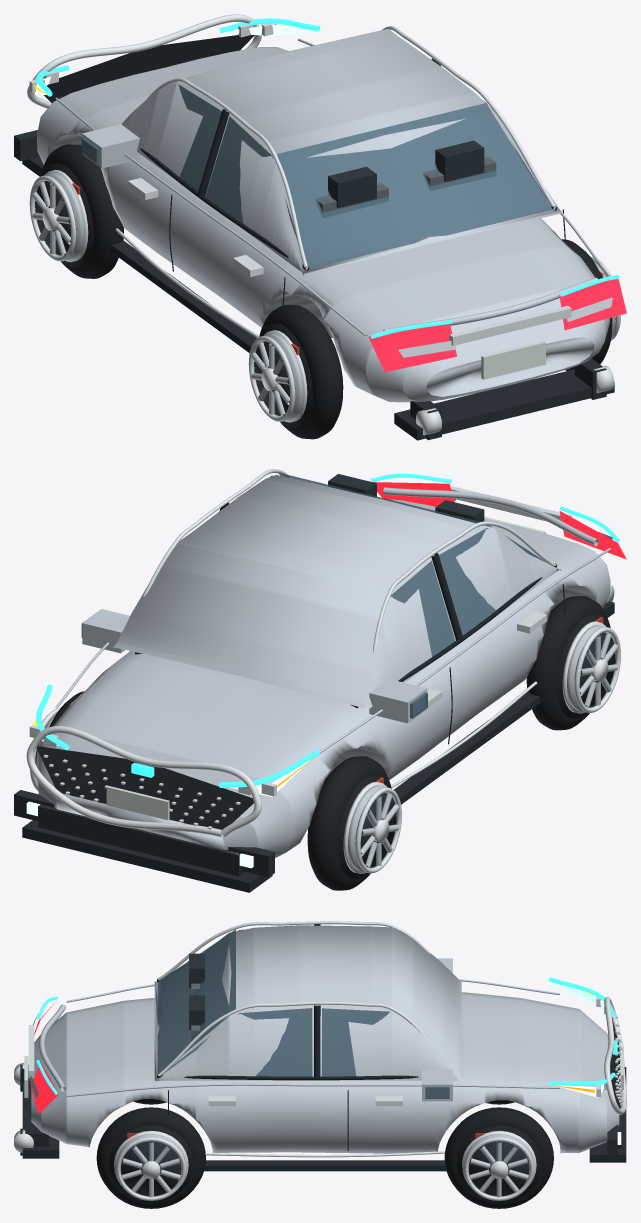
3 renders of one model, top to bottom at view 1: azimuth 30°, elevation 25°; view 2: azimuth 150°, elevation 25°; view 3: azimuth 270°, elevation 25°, orthographic. The views are drawn at different scales.
Visible parts, largest first — view 1: BodyPaint_FlowingRoof, BodyPaint_CurvedUnibody, WindowGlass_RearWindshield, NN_RearDiffuser, Wheel_Rear_L_Sidewall, GrilleMesh_Front, Wheel_Front_L_Sidewall, WindowGlass_RearDoor_-1, CarbonSideSkirt_-1, TailRed_-1, Chrome_GrilleFrame, WindowGlass_FrontDoor_-1 (+26 smaller); view 2: BodyPaint_FlowingRoof, BodyPaint_CurvedUnibody, GrilleMesh_Front, NN_CarbonIntake, Wheel_Front_L_Sidewall, Chrome_GrilleFrame, Wheel_Rear_L_Sidewall, NN_CarbonSplitter, CarbonSideSkirt_-1, WindowGlass_RearDoor_-1, WindowGlass_FrontDoor_-1, BodyPaint_DoorMirror_-1 (+27 smaller); view 3: BodyPaint_CurvedUnibody, BodyPaint_FlowingRoof, WindowGlass_RearWindshield, Wheel_Front_R_Sidewall, Wheel_Rear_R_Sidewall, WindowGlass_RearDoor_1, CarbonSideSkirt_1, WindowGlass_FrontDoor_1, Wheel_Front_R_DarkBarrel, Wheel_Rear_R_DarkBarrel, BodyPaint_Shoulder_1, Wheel_Rear_R_InnerTire (+21 smaller).
Boxes of the visible parts, left/top/right/bottom form: BodyPaint_FlowingRoof: left=121, top=29, right=561, bottom=276; BodyPaint_CurvedUnibody: left=37, top=47, right=610, bottom=402; WindowGlass_RearWindshield: left=277, top=103, right=552, bottom=268; NN_RearDiffuser: left=394, top=369, right=614, bottom=440; Wheel_Rear_L_Sidewall: left=259, top=304, right=342, bottom=439; GrilleMesh_Front: left=44, top=35, right=254, bottom=102; Wheel_Front_L_Sidewall: left=40, top=144, right=123, bottom=278; WindowGlass_RearDoor_-1: left=205, top=116, right=297, bottom=239; CarbonSideSkirt_-1: left=110, top=240, right=256, bottom=352; TailRed_-1: left=368, top=324, right=456, bottom=372; Chrome_GrilleFrame: left=27, top=14, right=261, bottom=108; WindowGlass_FrontDoor_-1: left=178, top=84, right=221, bottom=191; BodyPaint_FlowingRoof: left=112, top=475, right=561, bottom=710; BodyPaint_CurvedUnibody: left=37, top=499, right=610, bottom=858; GrilleMesh_Front: left=36, top=746, right=253, bottom=829; NN_CarbonIntake: left=38, top=804, right=243, bottom=876; Wheel_Front_L_Sidewall: left=307, top=756, right=391, bottom=890; Chrome_GrilleFrame: left=26, top=726, right=261, bottom=837; Wheel_Rear_L_Sidewall: left=526, top=596, right=610, bottom=730; NN_CarbonSplitter: left=22, top=820, right=272, bottom=892; CarbonSideSkirt_-1: left=394, top=692, right=540, bottom=804; WindowGlass_RearDoor_-1: left=439, top=528, right=543, bottom=635; WindowGlass_FrontDoor_-1: left=391, top=560, right=455, bottom=656; BodyPaint_DoorMirror_-1: left=369, top=679, right=427, bottom=723; BodyPaint_CurvedUnibody: left=31, top=992, right=619, bottom=1153; BodyPaint_FlowingRoof: left=154, top=925, right=461, bottom=1082; WindowGlass_RearWindshield: left=157, top=929, right=235, bottom=1074; Wheel_Front_R_Sidewall: left=444, top=1107, right=553, bottom=1208; Wheel_Rear_R_Sidewall: left=96, top=1107, right=205, bottom=1208; WindowGlass_RearDoor_1: left=166, top=1008, right=312, bottom=1076; CarbonSideSkirt_1: left=203, top=1160, right=446, bottom=1171; WindowGlass_FrontDoor_1: left=322, top=1008, right=389, bottom=1076; Wheel_Front_R_DarkBarrel: left=469, top=1141, right=529, bottom=1195; Wheel_Rear_R_DarkBarrel: left=121, top=1141, right=181, bottom=1195; BodyPaint_Shoulder_1: left=66, top=1083, right=559, bottom=1096; Wheel_Rear_R_InnerTire: left=109, top=1125, right=193, bottom=1202.
Size of the model in its own units: 2.69 by 1.87 by 5.36.
